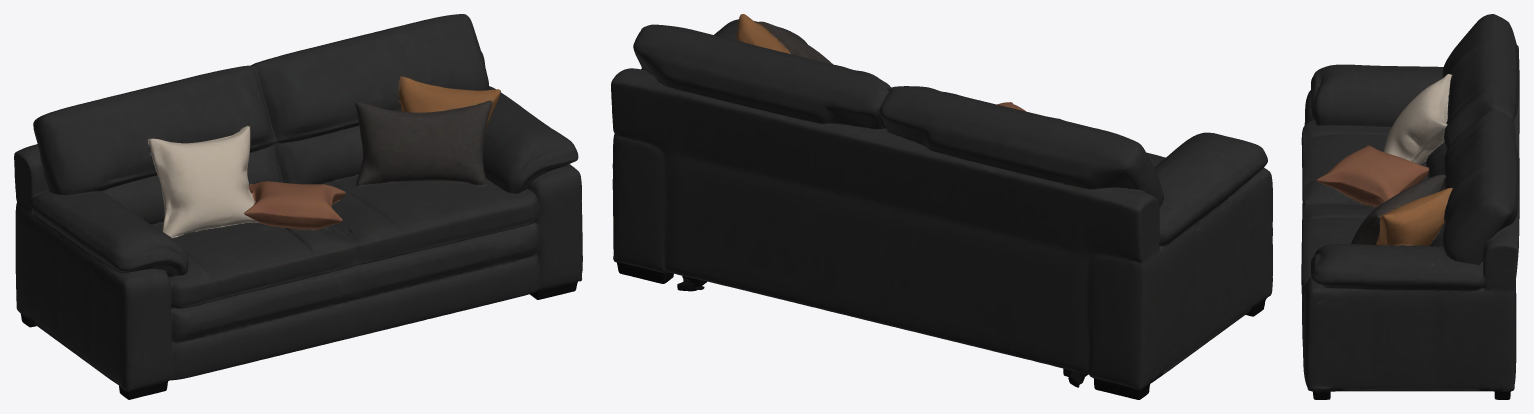
Rendered from Contemporary Three-Seater Leather Sofa [3WMSfv].glb.
3 renders of one model, left to right at view 1: azimuth 30°, elevation 25°; view 2: azimuth 150°, elevation 25°; view 3: azimuth 270°, elevation 25°, orthographic. The views are drawn at different scales.
Parts seen in each view (by area): view 1: world; view 2: world; view 3: world.
Part boxes in pixels (x1,y1,x2,y2): world: (14, 14, 582, 399); world: (611, 14, 1272, 399); world: (1301, 14, 1519, 399).
Bounding box in the file's own units: 1 × 0.4406 × 0.4458.
1 material, 1 textured.
